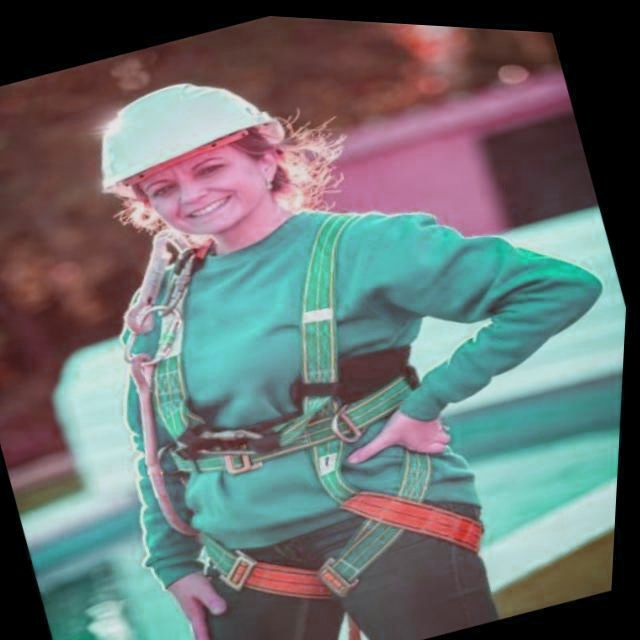safety belt: (100, 235, 481, 579)
